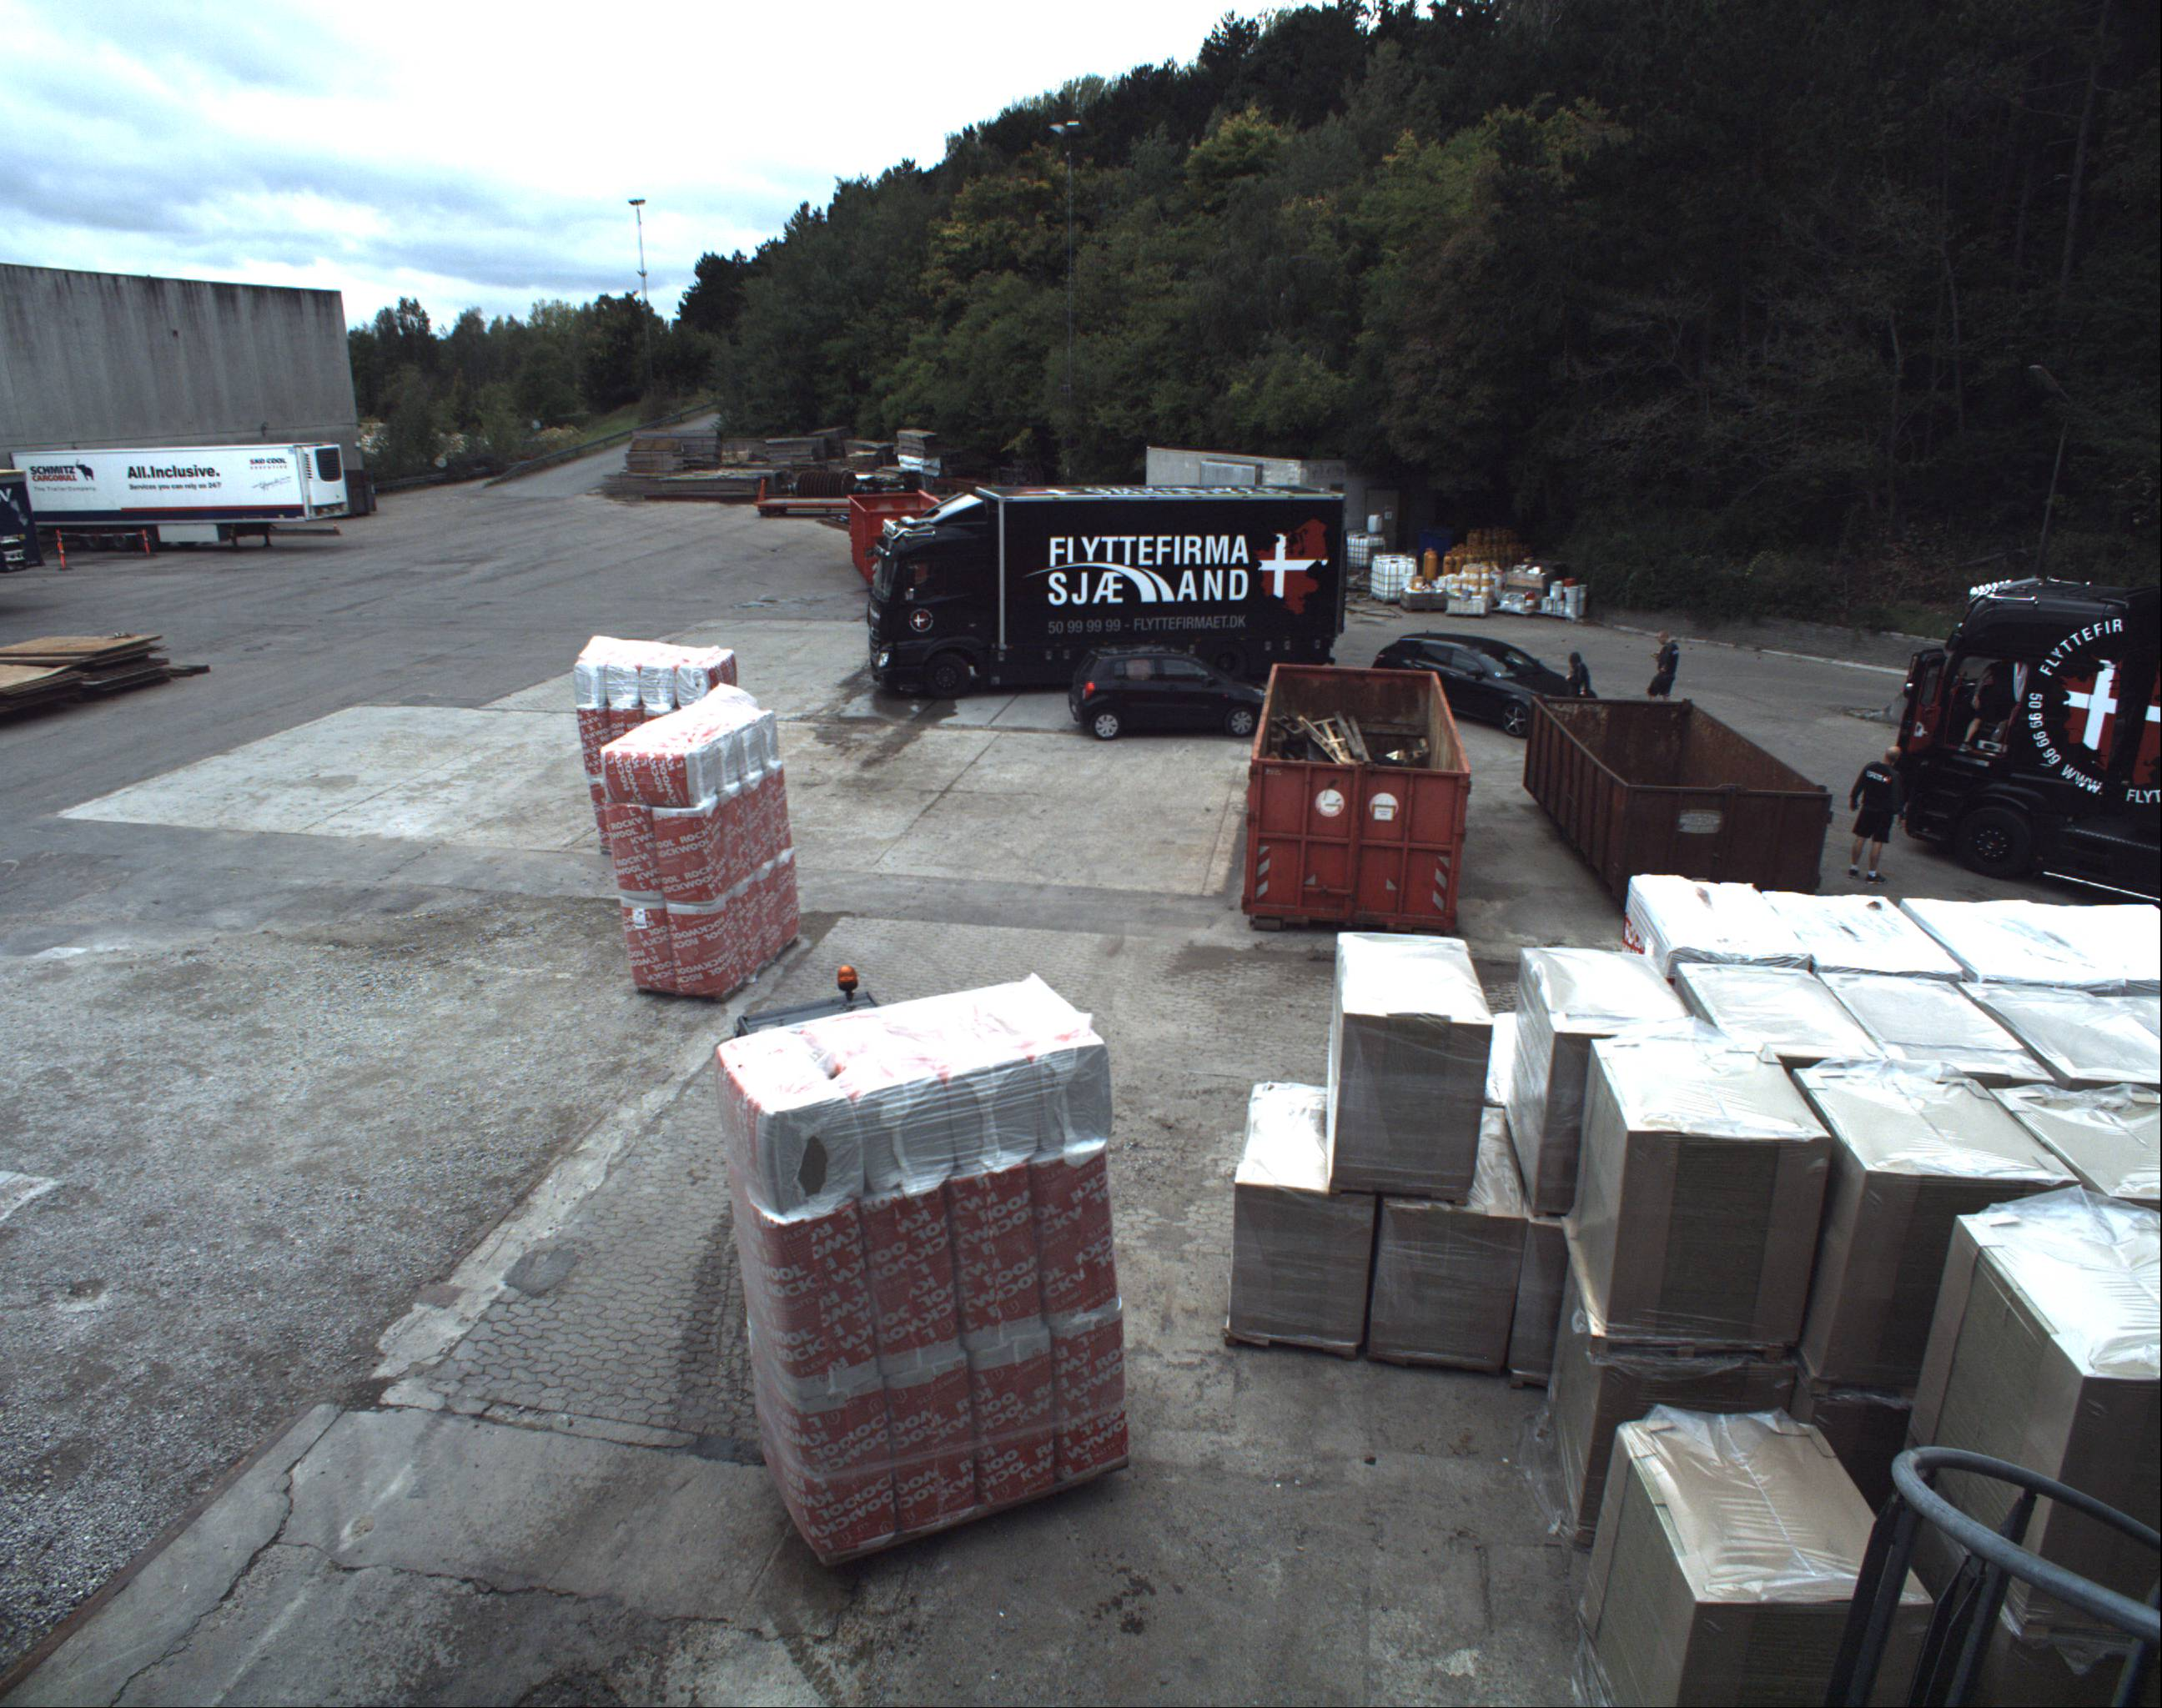rockwool_batts: (714, 987, 1128, 1557), (607, 686, 797, 987), (574, 630, 741, 774)
